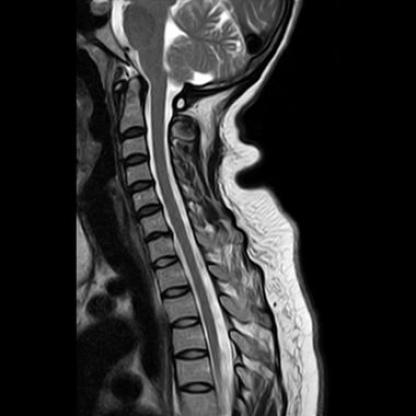Degenerative Disc Diseaserotation: (142, 230, 174, 244)
